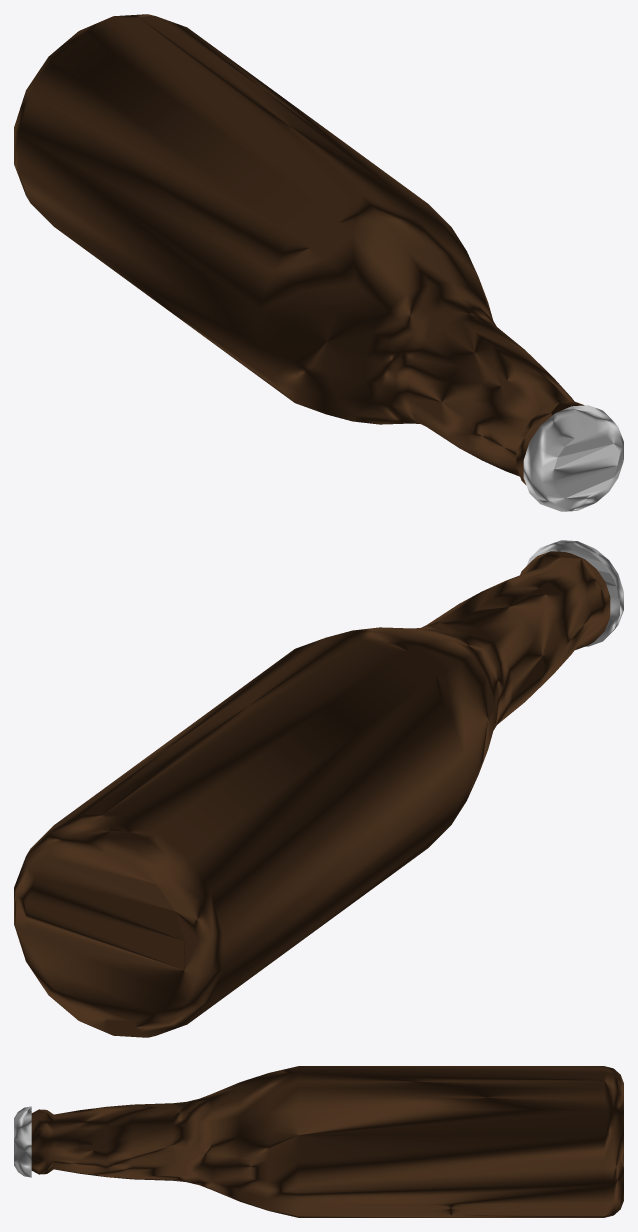
Rendered from model_align.obj.
3 renders of one model, top to bottom at view 1: azimuth 30°, elevation 25°; view 2: azimuth 150°, elevation 25°; view 3: azimuth 270°, elevation 25°, orthographic. The views are drawn at different scales.
Size of the model in its own units: 0.0339 by 0.0344 by 0.1379.
